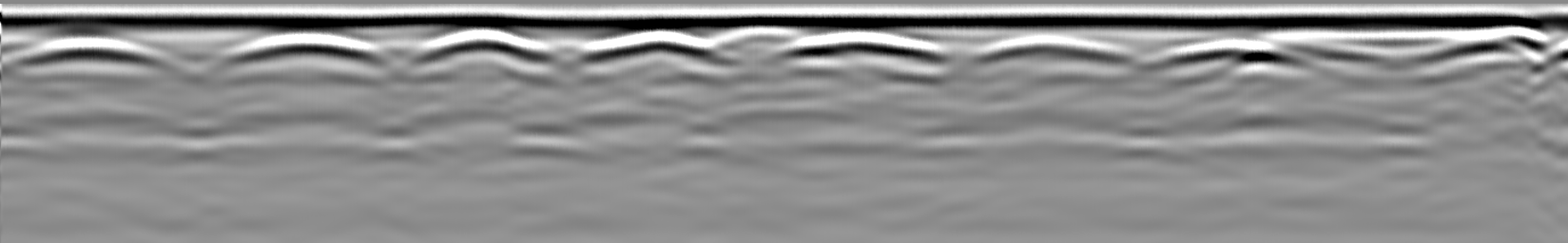steel: (7, 30, 200, 76), (217, 30, 400, 78), (773, 28, 949, 71), (404, 27, 565, 72), (986, 27, 1139, 66), (583, 28, 740, 66), (1427, 31, 1567, 73), (1157, 34, 1315, 71)
